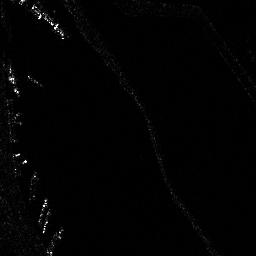ship: (31, 4, 65, 38)
